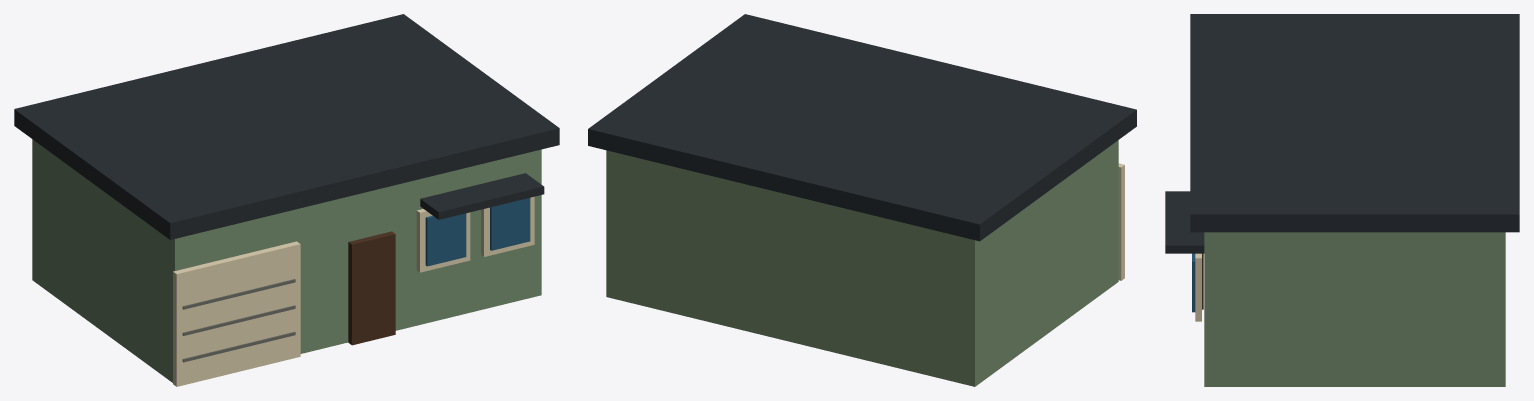
Rendered from House_Suburban_C.obj.
3 views of the same model, side by side, from view 1: azimuth 30°, elevation 25°; view 2: azimuth 150°, elevation 25°; view 3: azimuth 270°, elevation 25° (orthographic). The views are drawn at different scales.
Parts seen in each view (by area): view 1: FlatRoof, RanchWalls, Garage, FrontDoor, Window, Awning, WindowTrim, GaragePanel; view 2: RanchWalls, FlatRoof, Garage; view 3: FlatRoof, RanchWalls, Awning, WindowTrim.
Part boxes in pixels (x1,y1,x2,y2): FlatRoof: [14, 14, 559, 239]; RanchWalls: [32, 139, 541, 382]; Garage: [173, 241, 300, 386]; FrontDoor: [348, 231, 395, 345]; Window: [425, 198, 530, 266]; Awning: [420, 173, 544, 219]; WindowTrim: [416, 196, 534, 272]; GaragePanel: [182, 279, 295, 362]; RanchWalls: [606, 140, 1118, 386]; FlatRoof: [588, 14, 1136, 241]; Garage: [1118, 163, 1124, 280]; FlatRoof: [1190, 14, 1519, 232]; RanchWalls: [1204, 232, 1505, 386]; Awning: [1165, 191, 1204, 253]; WindowTrim: [1195, 253, 1201, 321].
Size of the model in its own units: 8.5 by 3.53 by 6.35.
